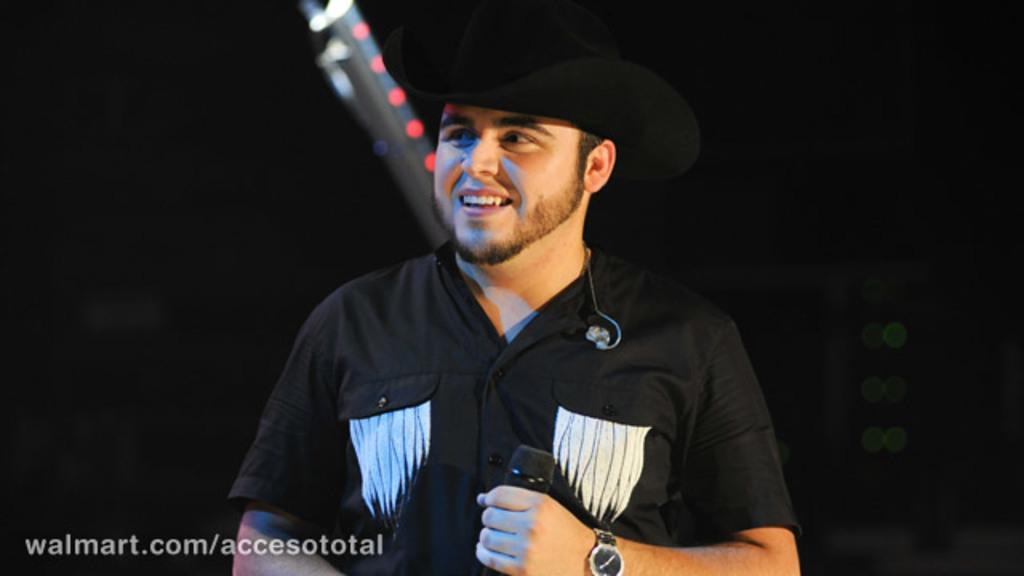Hat: (380, 3, 696, 184)
